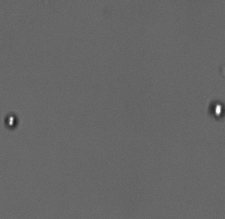Living Cell: (209, 99, 223, 119), (4, 113, 18, 131)
